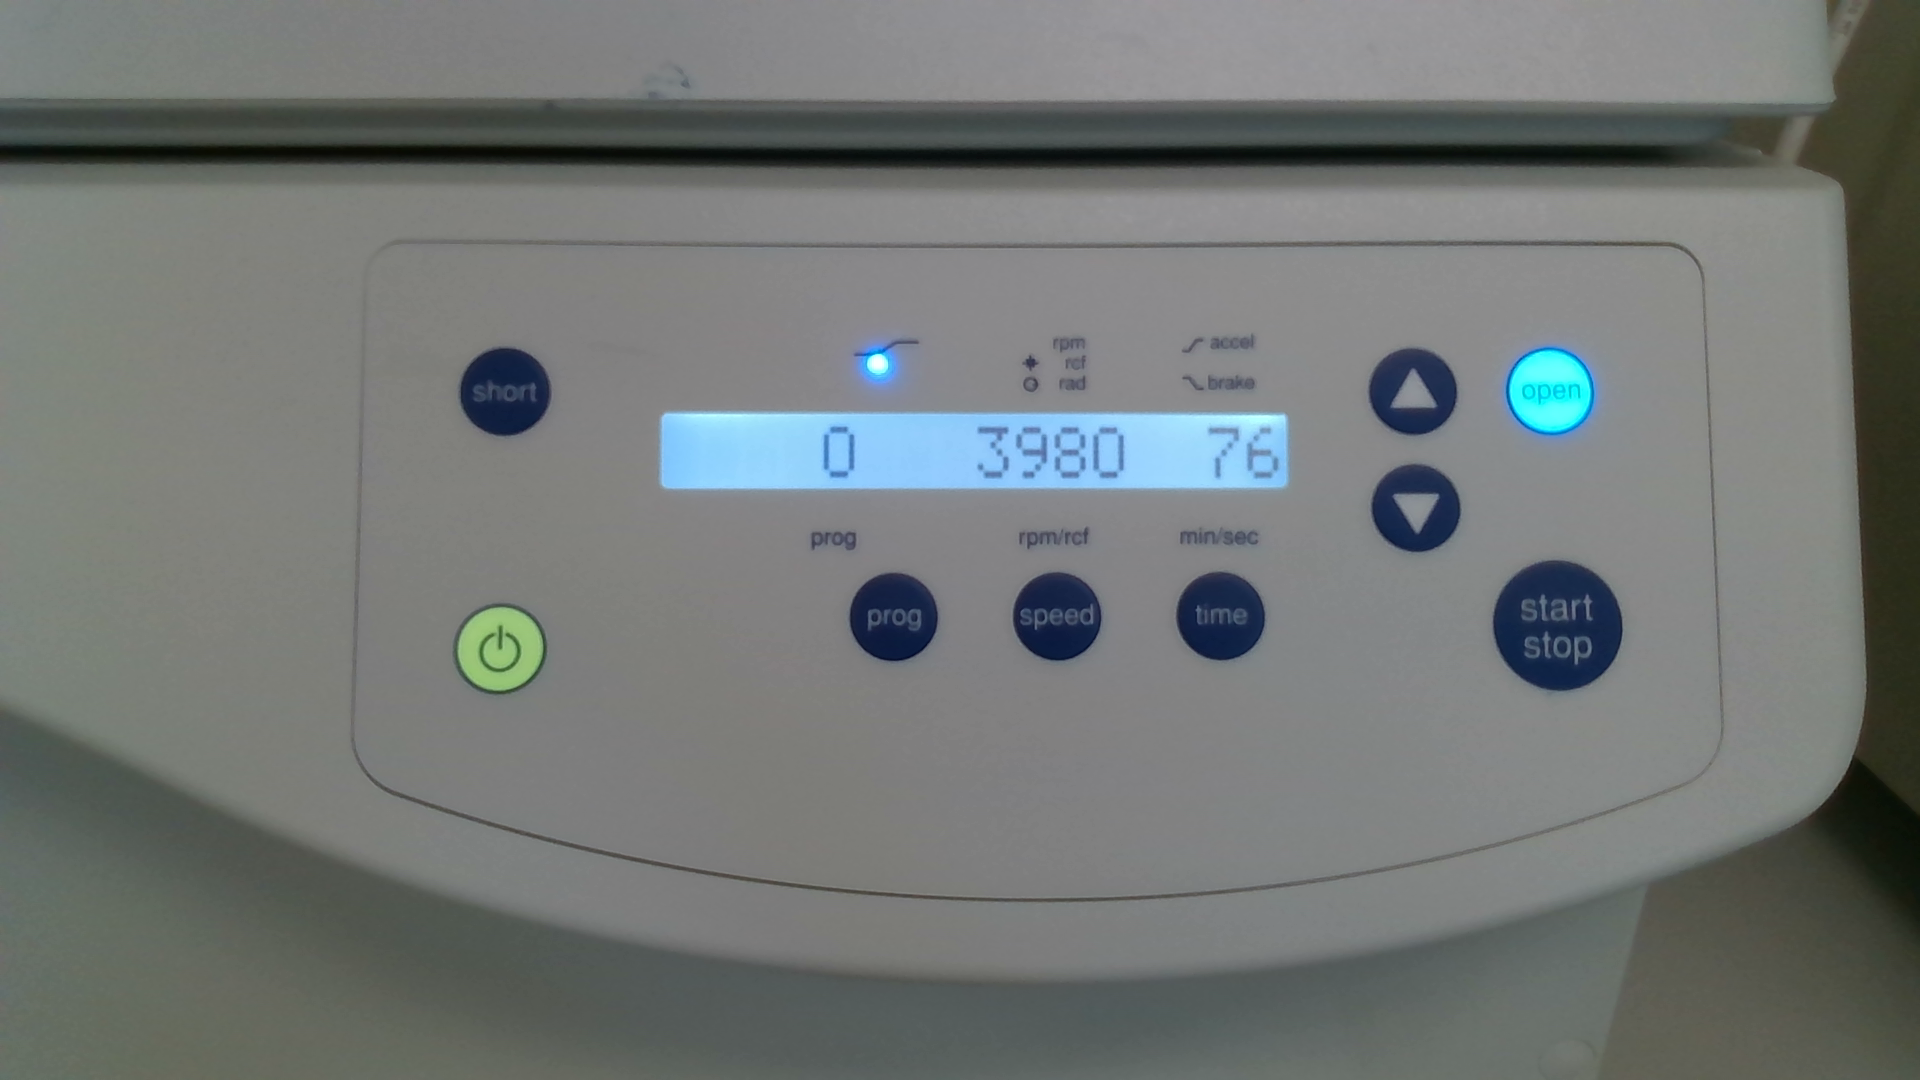0: (824, 427, 855, 477), (1095, 427, 1124, 477)
3: (978, 427, 1007, 477)
6: (1247, 427, 1278, 477)
7: (1209, 429, 1240, 479)
8: (1055, 427, 1085, 477)
9: (1017, 427, 1047, 477)
open_on: (1505, 345, 1596, 436)
power_on: (454, 603, 547, 696)
